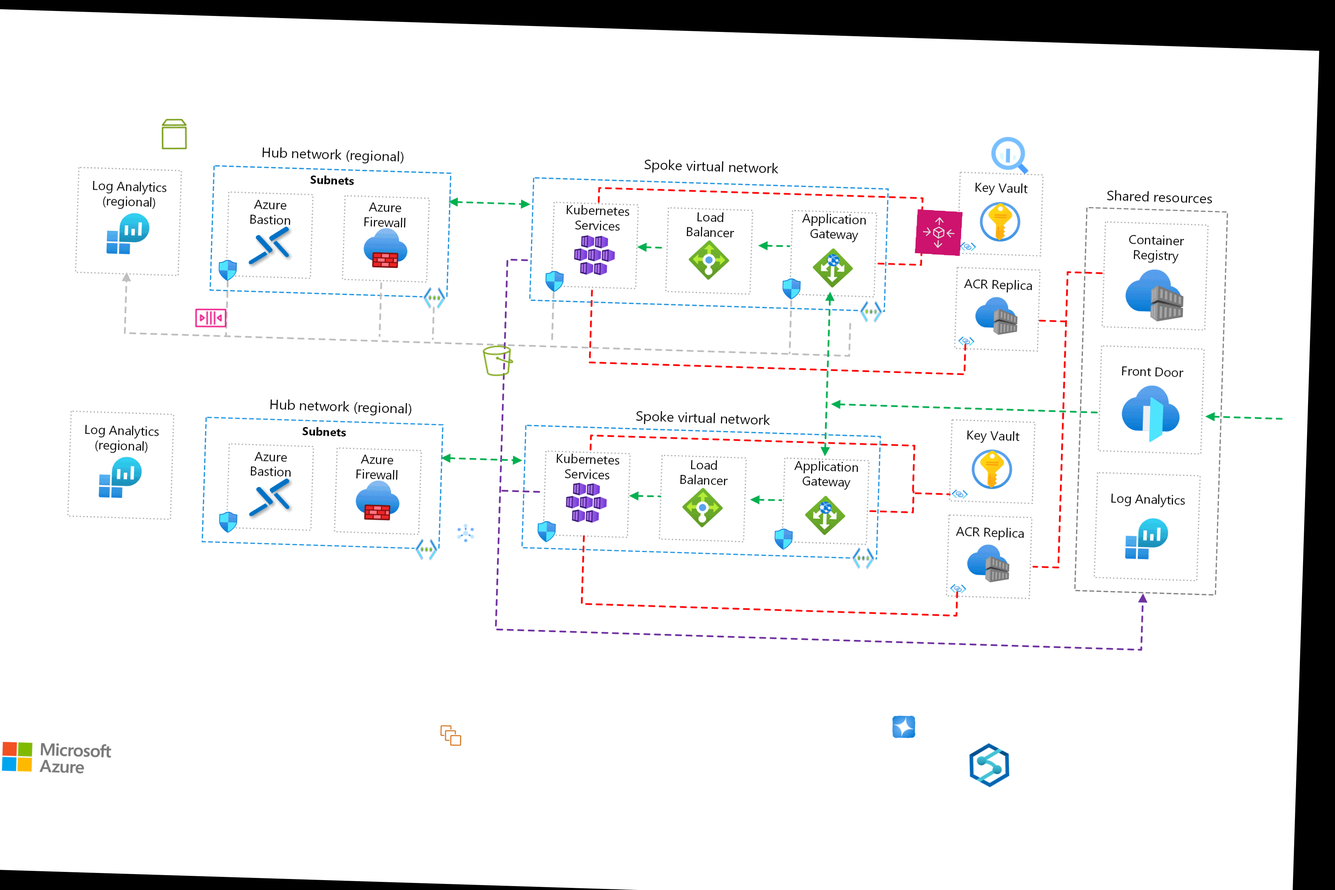aws_auto_scaling: (915, 209, 962, 256)
aws_ec2_instances: (439, 724, 463, 747)
aws_elastic_block_store_volume: (156, 116, 192, 151)
aws_simple_queue_service_queue: (193, 300, 229, 335)
aws_simple_storage_service_s3_standard: (479, 342, 517, 379)
azure_openai: (892, 715, 916, 739)
azure_synapse_analytics: (965, 741, 1014, 789)
gcp_bigquery: (986, 132, 1033, 178)
gcp_pubsub: (453, 521, 478, 545)
